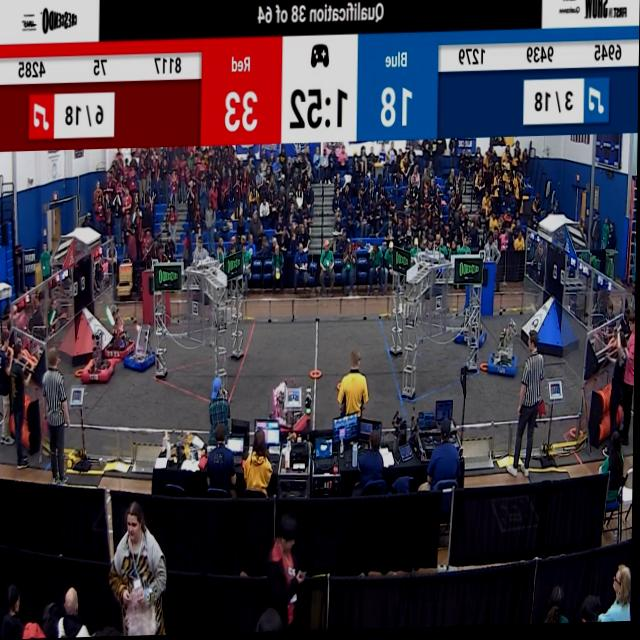Robot: (267, 368, 315, 438), (76, 317, 120, 391), (126, 316, 158, 377), (104, 297, 133, 359), (454, 301, 487, 355), (488, 325, 519, 382)
